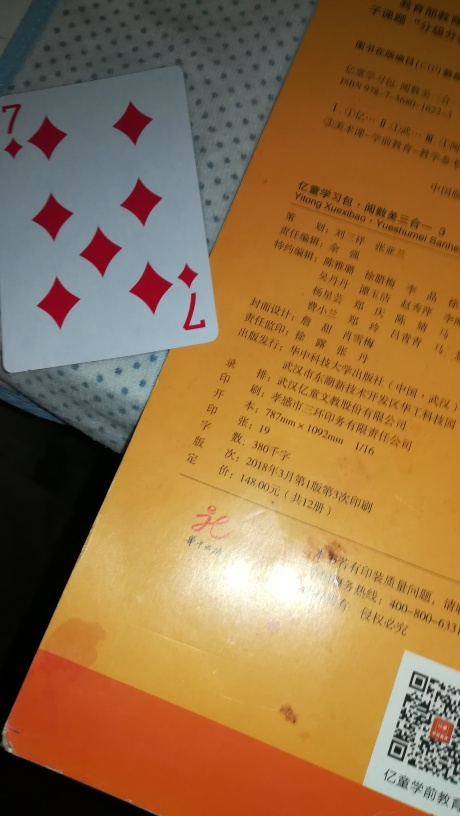fk 7: (4, 66, 220, 374)
